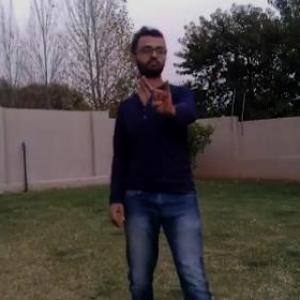takeoff-hand: (138, 66, 181, 114)
